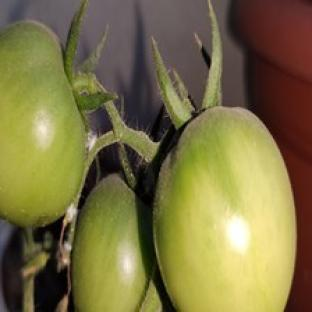Tomato: (154, 108, 296, 311), (0, 21, 84, 227), (73, 175, 154, 311)
